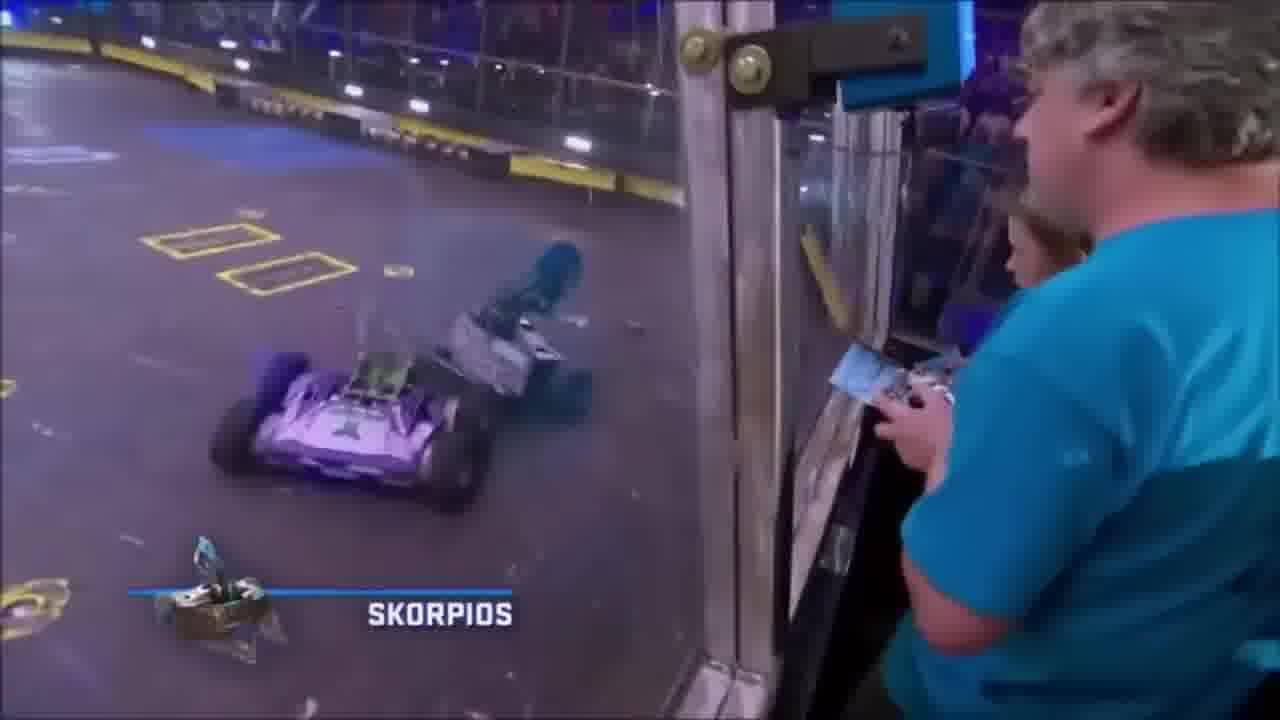combatbot: (208, 346, 499, 504), (450, 235, 588, 419), (156, 536, 280, 655)
